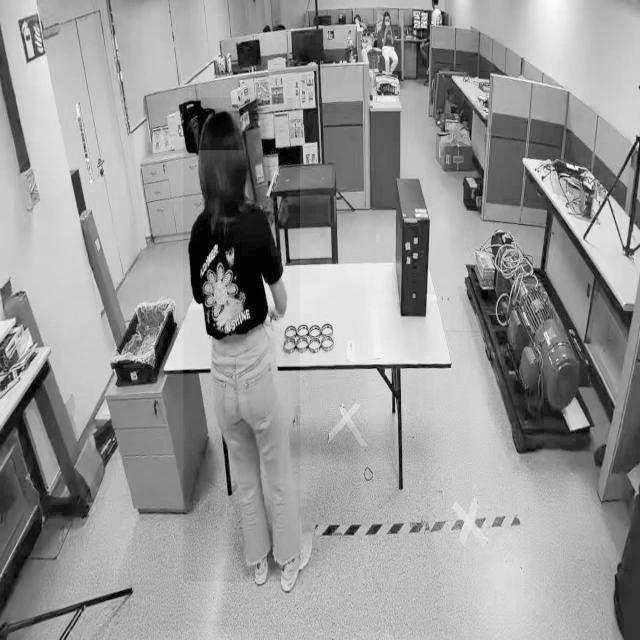head_nohelmet: (198, 109, 244, 151), (382, 9, 390, 17)
person: (184, 98, 300, 582), (377, 11, 403, 72)
shoes: (279, 528, 314, 594)
